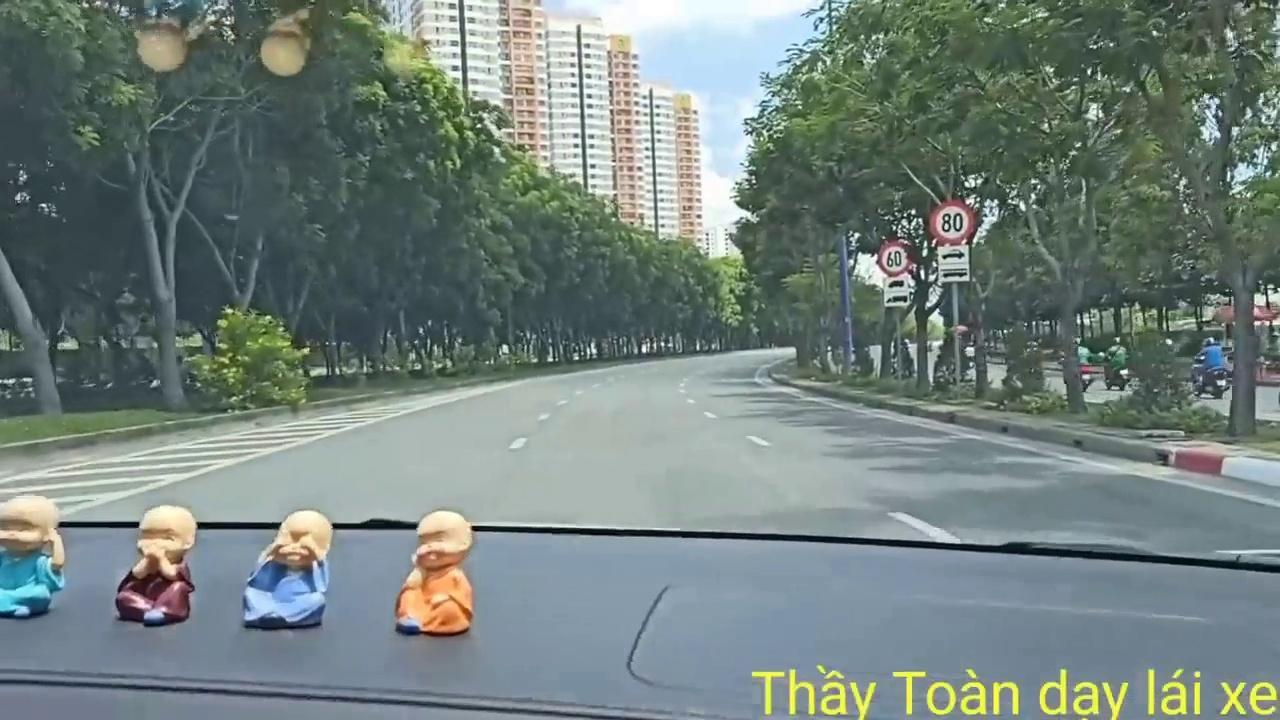Biển phụ: (936, 245, 972, 283), (883, 274, 910, 309)
GIơi hạn tốc độ 60Km/h: (876, 238, 914, 275)
Giới hạn tốc độ 80Km/h: (929, 197, 976, 245)
